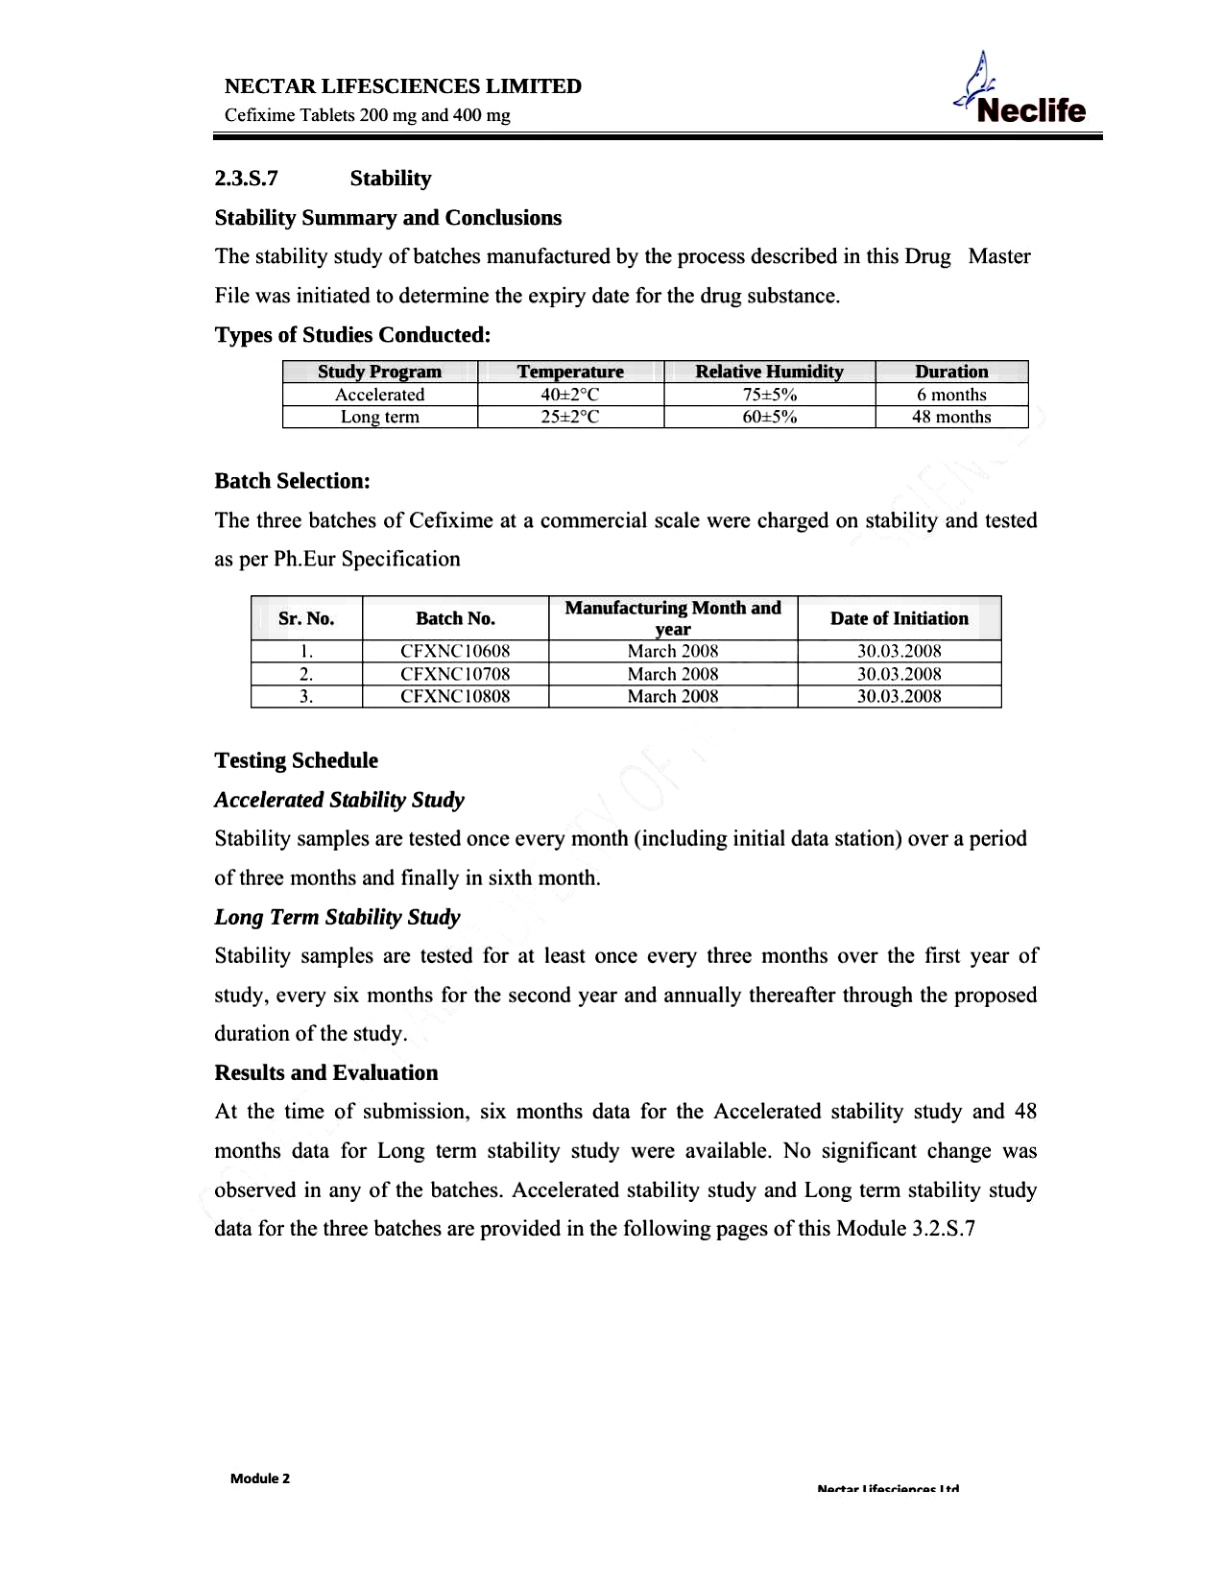full_lined: (249, 594, 1003, 709), (282, 359, 1030, 429)
